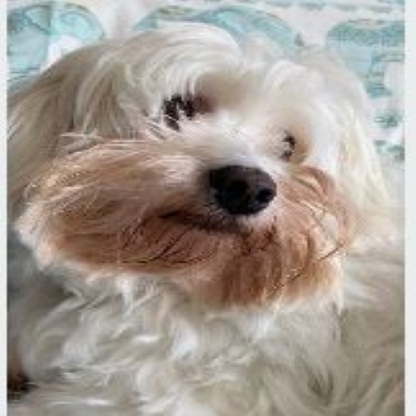maltese: (9, 15, 396, 300)
